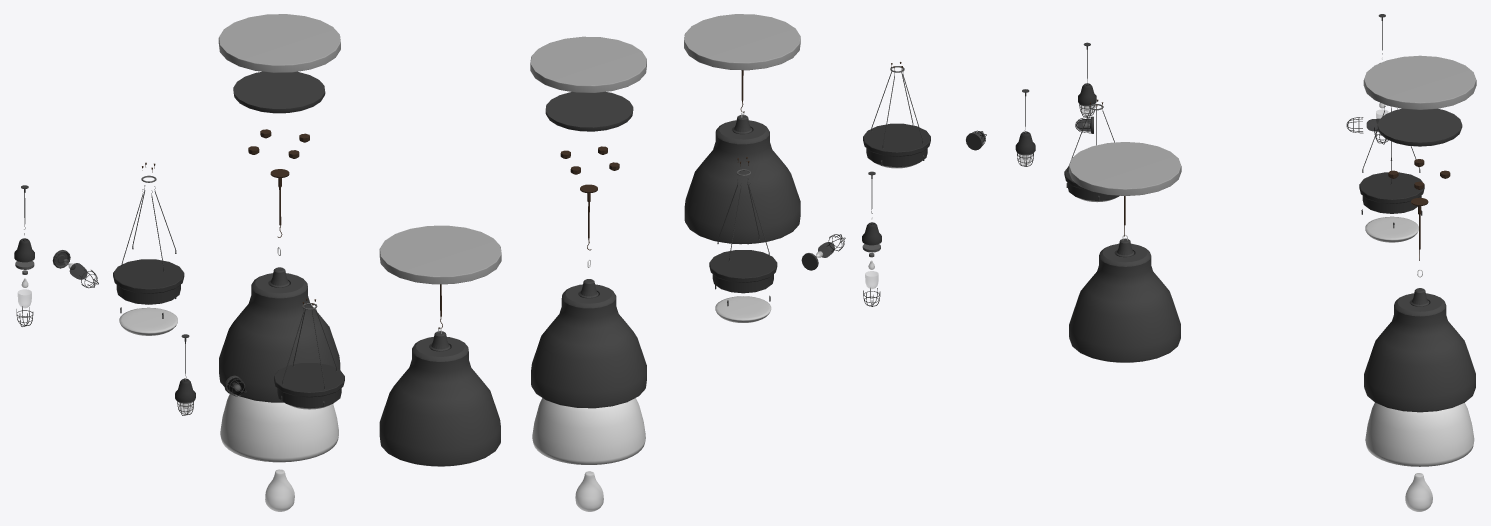
File: Lamps.fbx
3 views of the same model, side by side, from view 1: azimuth 30°, elevation 25°; view 2: azimuth 150°, elevation 25°; view 3: azimuth 270°, elevation 25° (orthographic). The views are drawn at different scales.
Visible parts, largest first — view 1: CarcacaLampada (×2), BaseSustentacao (×2), CarcacaReflexiva, BaseSuspencao, polySurface15, Assets:polySurface15, polySurface16, polySurface41; view 2: CarcacaLampada (×2), BaseSustentacao (×2), CarcacaReflexiva, BaseSuspencao, Assets:polySurface15, polySurface15, polySurface16, polySurface41; view 3: CarcacaLampada (×2), BaseSustentacao (×2), CarcacaReflexiva, BaseSuspencao, polySurface15, polySurface16, polySurface41, Assets:polySurface15.
Part boxes in pixels (left/top/right/bottom): CarcacaLampada (×2): left=219, top=267, right=500, bottom=466; BaseSustentacao (×2): left=218, top=14, right=501, bottom=284; CarcacaReflexiva: left=220, top=394, right=338, bottom=462; BaseSuspencao: left=233, top=71, right=325, bottom=113; polySurface15: left=113, top=259, right=184, bottom=304; Assets:polySurface15: left=274, top=363, right=344, bottom=408; polySurface16: left=119, top=307, right=177, bottom=335; polySurface41: left=265, top=469, right=294, bottom=511; CarcacaLampada (×2): left=531, top=114, right=800, bottom=408; BaseSustentacao (×2): left=530, top=14, right=800, bottom=92; CarcacaReflexiva: left=532, top=398, right=645, bottom=464; BaseSuspencao: left=545, top=92, right=633, bottom=131; Assets:polySurface15: left=863, top=123, right=930, bottom=167; polySurface15: left=709, top=250, right=777, bottom=293; polySurface16: left=715, top=296, right=771, bottom=322; polySurface41: left=575, top=471, right=603, bottom=511; CarcacaLampada (×2): left=1069, top=238, right=1475, bottom=412; BaseSustentacao (×2): left=1069, top=55, right=1476, bottom=195; CarcacaReflexiva: left=1365, top=402, right=1474, bottom=466; BaseSuspencao: left=1377, top=108, right=1462, bottom=146; polySurface15: left=1359, top=172, right=1424, bottom=213; polySurface16: left=1365, top=216, right=1418, bottom=242; polySurface41: left=1405, top=473, right=1432, bottom=511; Assets:polySurface15: left=1064, top=166, right=1119, bottom=200.
Bounding box in the file's own units: 42.51 × 56.44 × 48.91.
